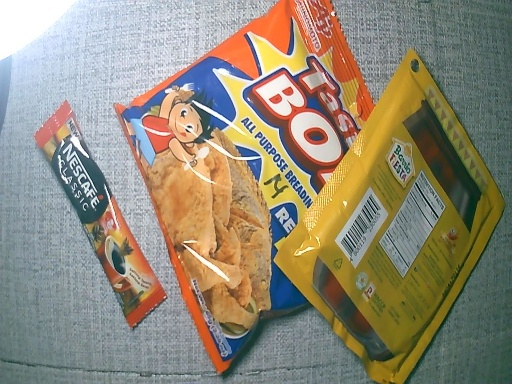plastic: (132, 2, 373, 376), (275, 44, 506, 384), (35, 98, 169, 324)
